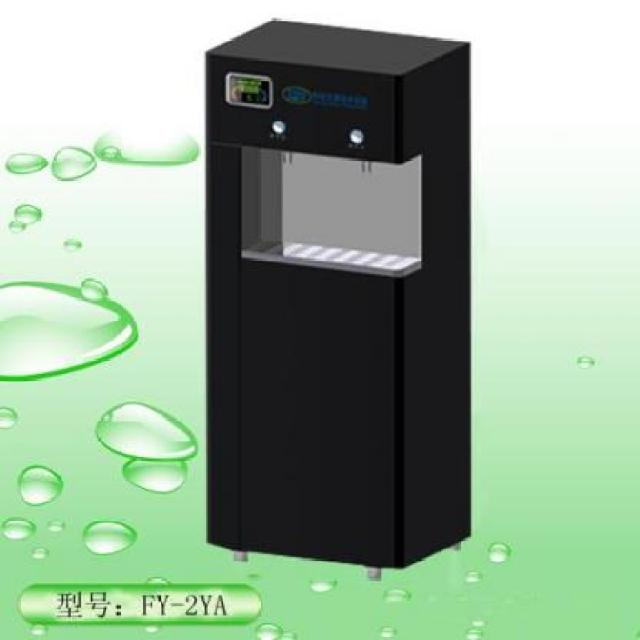cooler: (202, 11, 473, 574)
